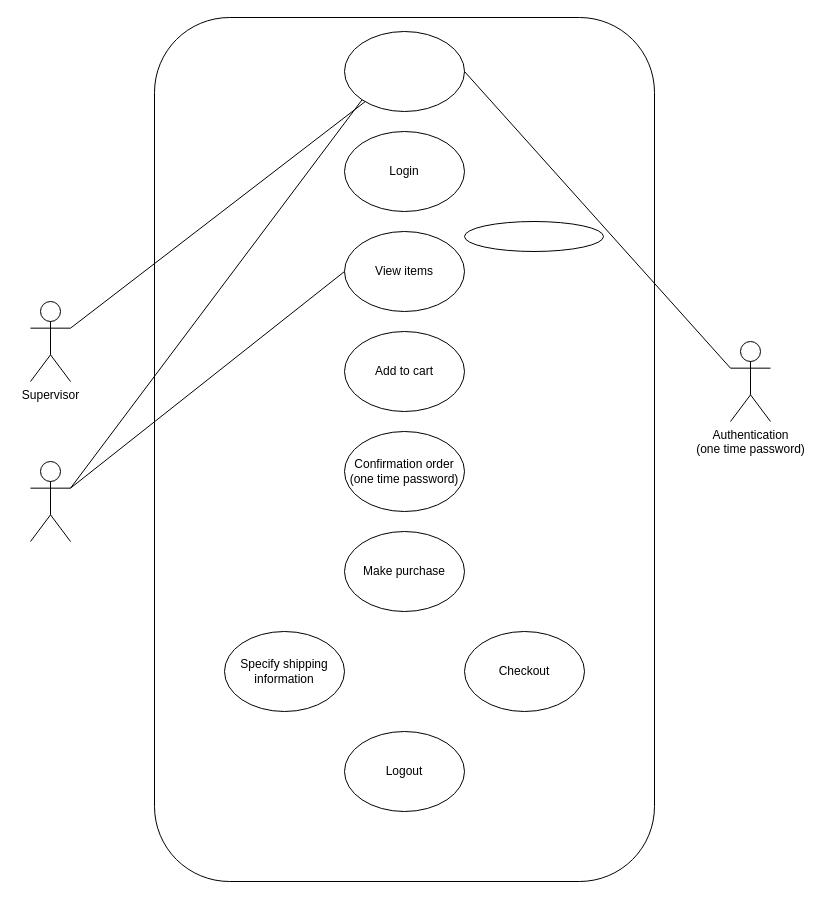
The diagram is 822 pixels wide and 899 high, and some of its shapes have lost their labels. The shapes that lost their labels are listed below. From the top down, each one's centre as x and y in pixels, then its label:
At (404,71): "Register User".
At (534,236): "Forgot password".
At (50,501): "Staff Worker".
